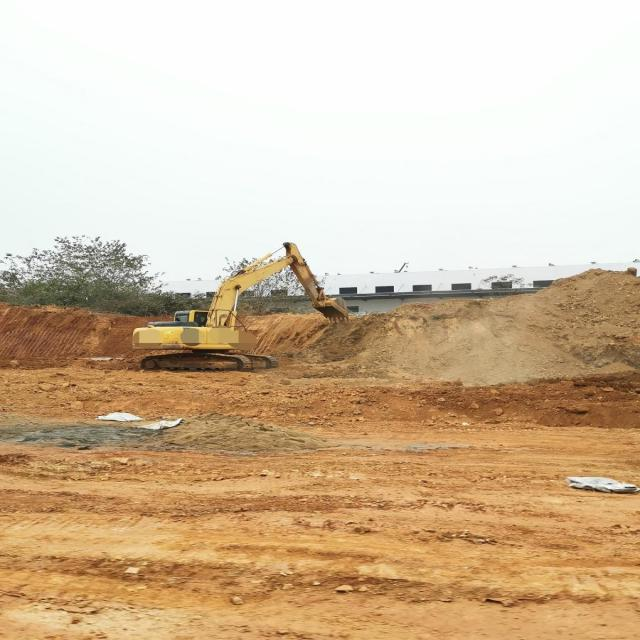excavator: (128, 234, 356, 379)
